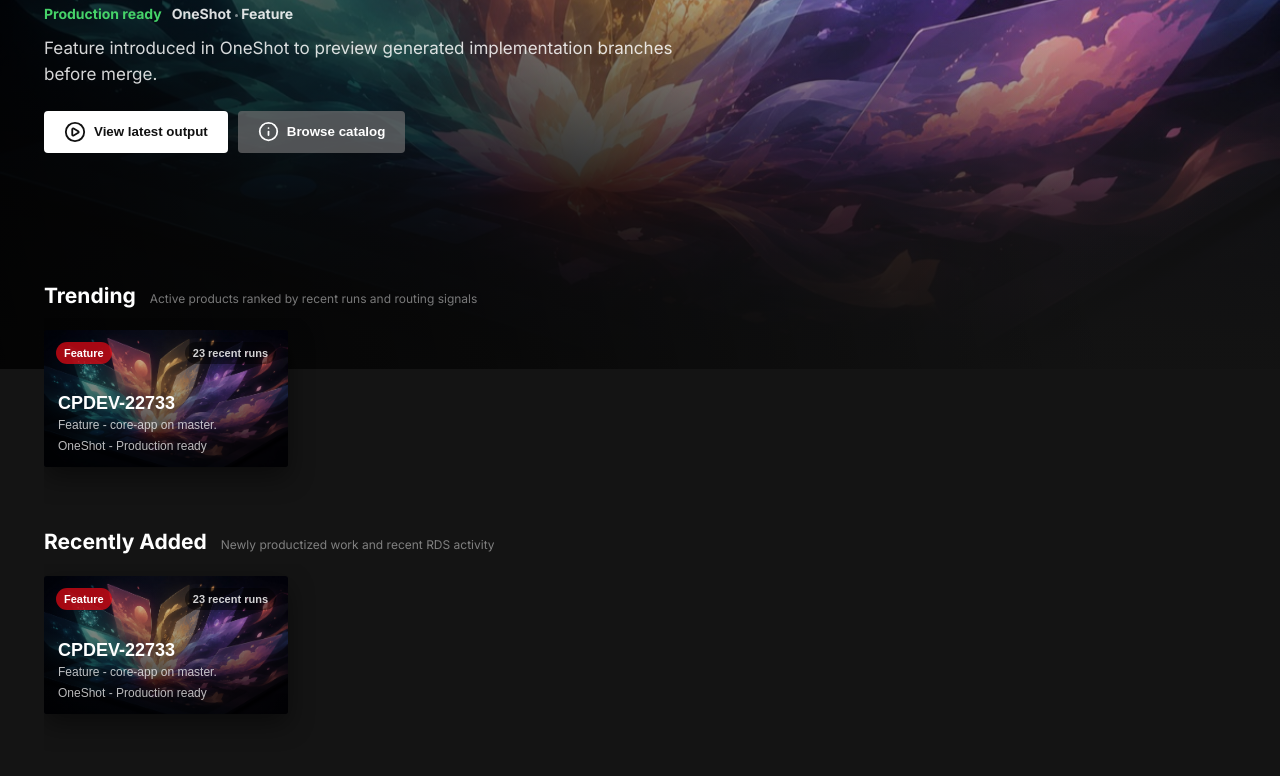
Test: ProductCatalogPage › shows deployment action buttons for OneShot outcome tiles
The image size is (1280, 776).
(page scrolled)
Click the button with aria-label "CPDEV-22733 product card".
click(166, 399)  # box [44,330,288,467]
(page scrolled)
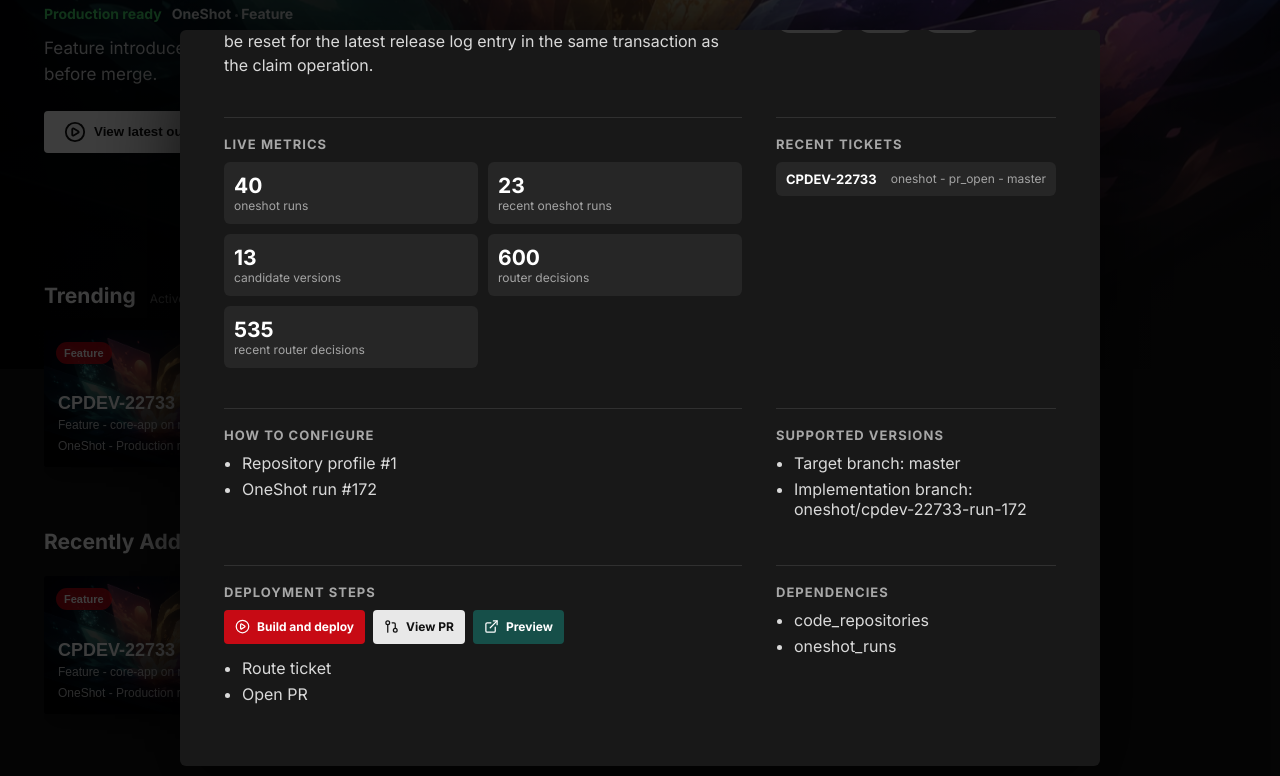
Now the text "external AI agent user claims a case" is shown, box [224,30,742,74]
